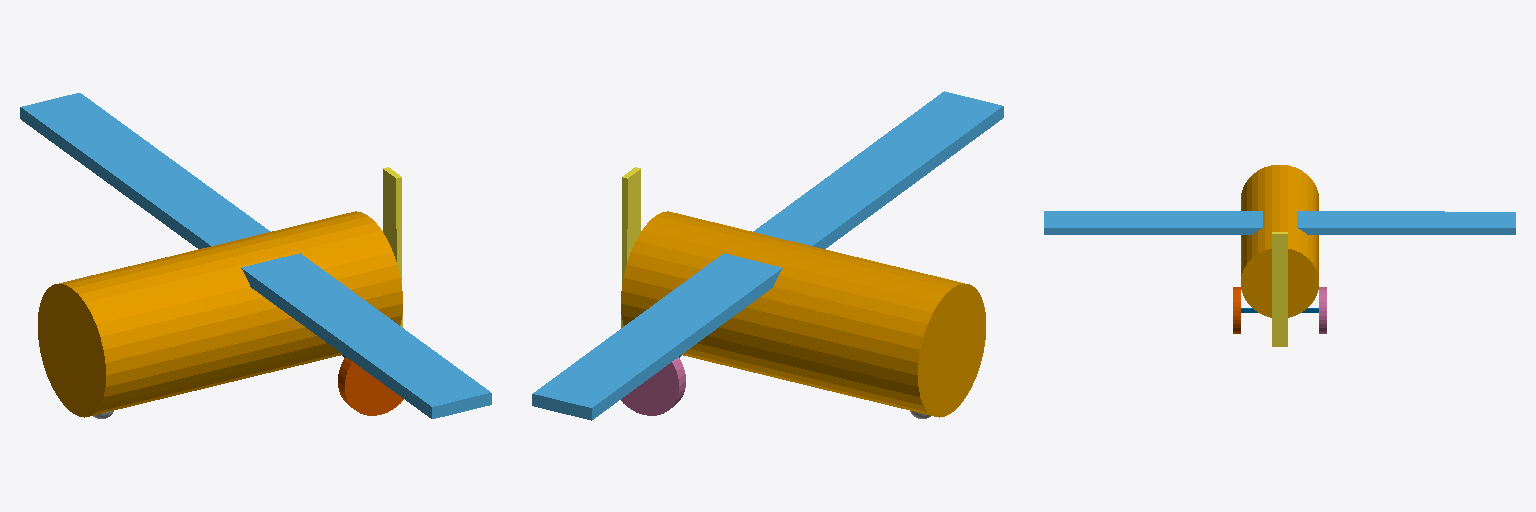
URDF robot description (plane):
<robot name="plane">

    <link name="body">
        <visual>
            <origin rpy="0 -1.57 0 " />
            <geometry>
                <cylinder radius="0.5" length="2.5" />
            </geometry>
        </visual>

        <collision>
            <origin rpy="0 -1.57 0 " />
            <geometry>
                <cylinder radius="0.5" length="2.5" />
            </geometry>
        </collision>

        <inertial>
            <origin rpy="0 -1.57 0 " />
            <mass value="2" />
            <inertia ixx="1.16666666666" ixy="0" ixz="0" iyz="0"
                iyy="1.16666666666" izz="0.0416666666666" />
        </inertial>

    </link>
    ----------------------------------------------------------------------------  wings
    
    
    <link name="airfoil">
        <visual>
            <geometry>
                <box size="0.5 6 0.1" />
            </geometry>
        </visual>

        <collision>
            <geometry>
                <box size="0.5 6 0.1" />
            </geometry>
        </collision>


        <inertial>
            <mass value="2.0" />
            <inertia ixx="6.0016666666666" ixy="0" ixz="0" iyz="0"
                iyy="0.04333333333333" izz="6.0416666666666" />
        </inertial>
    </link>
    
    <joint name="bodyToWing" type="revolute">
        <origin xyz="0.3 0 0.4" rpy ="3.14 0 0"/>
        <parent link="body" />
        <child link="airfoil" />
        <limit effort="1000.0" lower="-0.00872665" upper="0.00872665" velocity="0.5"/>
    </joint>
    
 -----------------------------------------------------------------------------------propeller
    
    <link name="arm">
        <visual>
            <origin xyz="0 0 0.1" />
            <geometry>
                <cylinder radius="0.1" length="0.2" />
            </geometry>
        </visual>

        <collision>
            <origin xyz="0 0 0.1" />
            <geometry>
                <cylinder radius="0.1" length="0.2" />
            </geometry>
        </collision>

        <inertial>
            <origin xyz="0 0 0.1" />
            <mass value="0.01" />
            <inertia ixx="0.0000583333" ixy="0" ixz="0" iyz="0"
                iyy="0.0000583333" izz="0.000008333333" />
        </inertial>
    </link>

    <joint name="body_to_arm" type="continuous">
        <origin xyz="1.25 0 0" rpy="0 1.57  0" />
        <axis xyz="0 0 1" />
        <parent link="body" />
        <child link="arm" />
    </joint>


    <link name="propeller">
        <visual>
            <geometry>
                <box size="1.6 0.2 0.05" />
            </geometry>
        </visual>

        <collision>
            <geometry>
                <box size="1.6 0.2 0.05" />
            </geometry>
        </collision>

        <inertial>
            <mass value="0.1" />
            <inertia ixx="0.00035416666666" ixy="0" ixz="0" iyz="0"
                iyy=" 0.021354166" izz=" 0.02166666666" />
        </inertial>

    </link>

    <joint name="arm_to_propeller" type="fixed">
        <origin xyz="0 0 0.2" rpy="0 0 0" />
        <parent link="arm" />
        <child link="propeller" />
    </joint>
    
     ---------------------------------------------------------------------------front wheels
     
    <link name="wheel_base">
        <visual>
            <geometry>
                <box size="0.05 1 0.05" />
            </geometry>
        </visual>

        <collision>
            <geometry>
                <box size="0.05 1 0.05" />
            </geometry>
        </collision>

        <inertial>
            <mass value="0.01" />
            <inertia ixx="0.000835416666666" ixy="0" ixz="0" iyz="0"
                iyy=" 0.000004166666" izz="0.000835416666666" />
        </inertial>

    </link>

    <joint name=" body_to_wheel_base" type="revolute">
        <origin xyz="1 0 -0.5" rpy="0 0 0" />
        <parent link="body" />
        <child link="wheel_base" />
        <limit effort="10.0" lower="-0.00872665" upper="0.00872665" velocity="0.5"/>
    </joint>

    <link name="left_wheel">
        <visual>
            <origin xyz="0 0 0.05" />
            <geometry>
                <cylinder radius="0.3" length="0.1" />
            </geometry>
        </visual>

        <collision>
            <origin xyz="0 0 0.05" />
            <geometry>
                <cylinder radius="0.3" length="0.1" />
            </geometry>
        </collision>

        <inertial>
            <origin xyz="0 0 0.05" />
            <mass value="0.01" />
            <inertia ixx="0.00023333333333333" ixy="0" ixz="0" iyz="0"
                iyy=" 0.00023333333333333" izz="0.000075" />
        </inertial>
    </link>

    <joint name=" wheel_base_to_left_wheel" type="continuous">
        <origin xyz="0 -0.5 0" rpy="1.57 0 0" />
        <parent link="wheel_base" />
        <child link="left_wheel" />
        <axis xyz=" 0 0 1" />
    </joint>


    <link name="right_wheel">
        <visual>
            <origin xyz="0 0 -0.05" />
            <geometry>
                <cylinder radius="0.3" length="0.1" />
            </geometry>
        </visual>

        <collision>
            <origin xyz="0 0 -0.05" />
            <geometry>
                <cylinder radius="0.3" length="0.1" />
            </geometry>
        </collision>

        <inertial>
            <origin xyz="0 0 -0.05" />
            <mass value="0.01" />
            <inertia ixx="0.00023333333333333" ixy="0" ixz="0" iyz="0"
                iyy=" 0.00023333333333333" izz="0.000075" />
        </inertial>
    </link>

    <joint name=" wheel_base_to_right_wheel" type="continuous">
        <origin xyz="0 0.5 0" rpy="1.57 0 0" />
        <parent link="wheel_base" />
        <child link="right_wheel" />
        <axis xyz=" 0 0 1" />
    </joint>

    ------------------------------------------------------------------------------------ rear sphere wheel

    <link name="rear_wheel">
        <visual>
            <geometry>
                <sphere radius="0.1" />
            </geometry>
        </visual>

        <collision>
            <geometry>
                <sphere radius="0.1" />
            </geometry>
        </collision>

        <inertial>
            <mass value="0.01" />
            <inertia ixx="0.00004" ixy="0" ixz="0" iyz="0"
                iyy=" 0.00004" izz="0.00004" />
        </inertial>
    </link>

    <joint name="body_to_rear_wheel" type="continuous">
        <origin xyz="-1 0 -0.5" />
        <axis xyz="0 1 0"/>
        <parent link="body" />
        <child link="rear_wheel" />
    </joint>
    
    

</robot>

--- Facts derived from the render (not from the file) ---
The picture shows the robot from 3 angles, left to right: view 1: azimuth 30°, elevation 25°; view 2: azimuth 150°, elevation 25°; view 3: azimuth 270°, elevation 25°; orthographic projection.
Model plane with 8 links and 7 joints (2 revolute, 4 continuous, 1 fixed), rooted at body, posed all joints at 0.
Visible links, largest first — view 1: body, airfoil, left_wheel, propeller; view 2: body, airfoil, right_wheel, propeller; view 3: airfoil, body, propeller.
Link boxes in pixels (bbox=[...]): body: bbox=[38, 211, 402, 417]; airfoil: bbox=[20, 93, 491, 418]; left_wheel: bbox=[338, 357, 403, 415]; propeller: bbox=[383, 167, 402, 327]; body: bbox=[621, 211, 985, 417]; airfoil: bbox=[532, 91, 1003, 420]; right_wheel: bbox=[621, 357, 685, 415]; propeller: bbox=[621, 167, 640, 327]; airfoil: bbox=[1044, 211, 1515, 234]; body: bbox=[1241, 165, 1318, 317]; propeller: bbox=[1272, 232, 1287, 346].
Bounding box of the posed robot: 2.73 × 6 × 1.6 m (x, y, z).
Geometry: primitives only (box / cylinder / sphere), no mesh files.